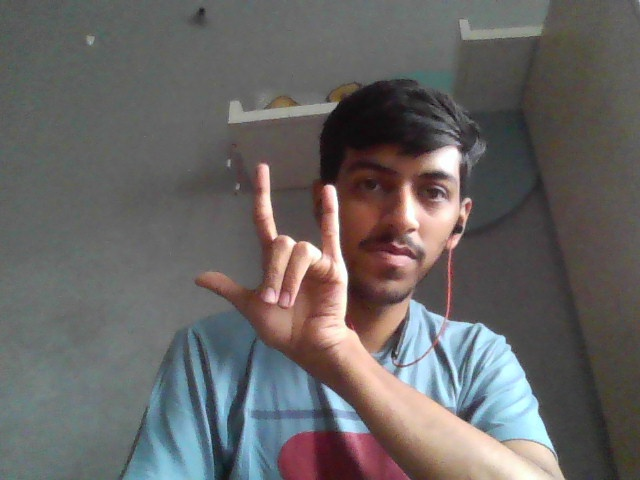I Love You: (174, 158, 367, 356)
